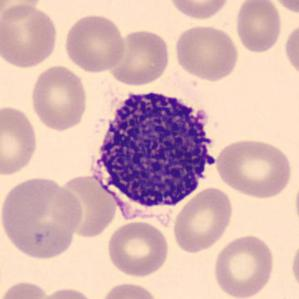Basophil: (81, 82, 225, 228)
RBC: (0, 174, 84, 262), (213, 136, 294, 199), (211, 232, 277, 299), (171, 185, 235, 254), (28, 64, 90, 132), (0, 1, 60, 70), (62, 11, 127, 74), (105, 218, 171, 279), (173, 23, 240, 82), (108, 27, 172, 87), (0, 102, 40, 178), (233, 0, 283, 54), (167, 0, 232, 21), (97, 280, 162, 299), (0, 278, 52, 298), (282, 20, 299, 79), (0, 0, 44, 21), (35, 286, 99, 299), (288, 234, 299, 294), (271, 0, 298, 15), (293, 173, 299, 234)
